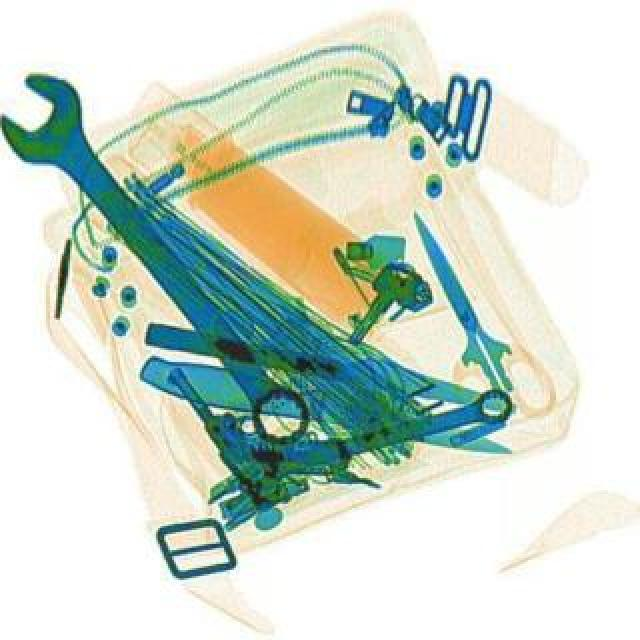gun: (162, 318, 356, 516)
knife: (136, 348, 516, 466), (142, 310, 520, 418), (394, 200, 526, 400)
scissors: (0, 84, 336, 462), (234, 382, 514, 490)
